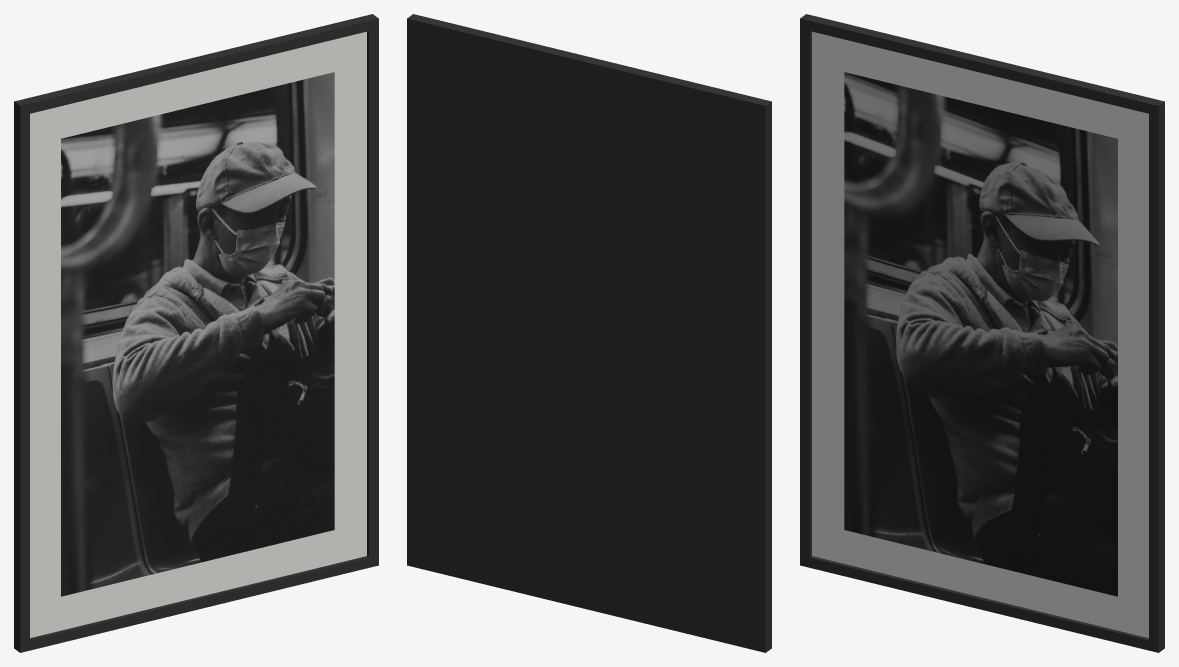
The model's file is pendlaren-90.gltf.
3 views of the same model, side by side, from view 1: azimuth 30°, elevation 25°; view 2: azimuth 150°, elevation 25°; view 3: azimuth 330°, elevation 25° (orthographic).
Parts seen in each view (by area): view 1: tavla; view 2: tavla; view 3: tavla.
Boxes of the visible parts, left/top/right/bottom form: tavla: left=14, top=14, right=378, bottom=652; tavla: left=407, top=14, right=771, bottom=652; tavla: left=800, top=14, right=1164, bottom=652.
Bounding box in the file's own units: 0.7375 × 1.08 × 0.022.
3 materials, 1 textured.
